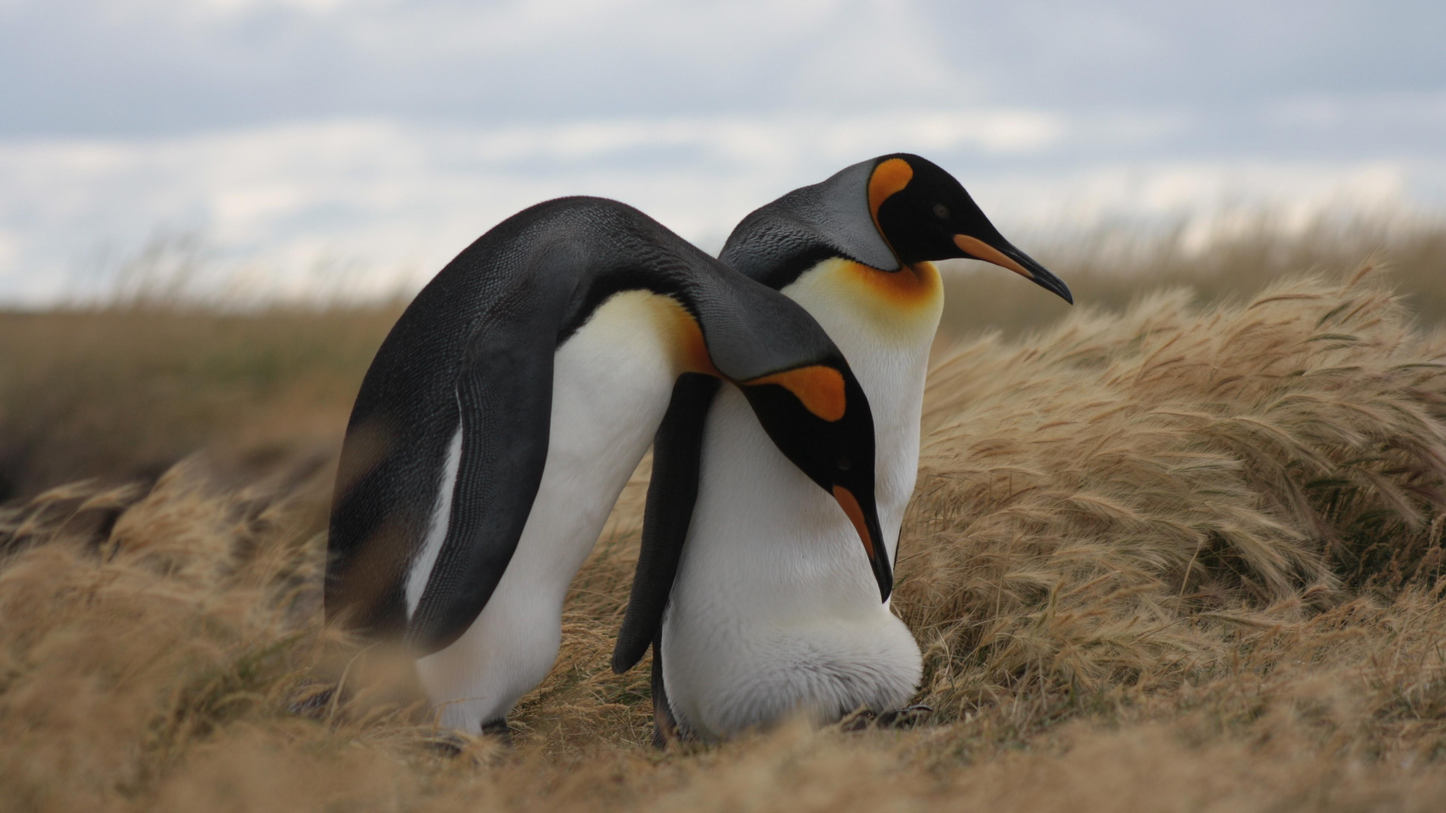Penguin: (325, 198, 892, 734), (611, 151, 1073, 747)
